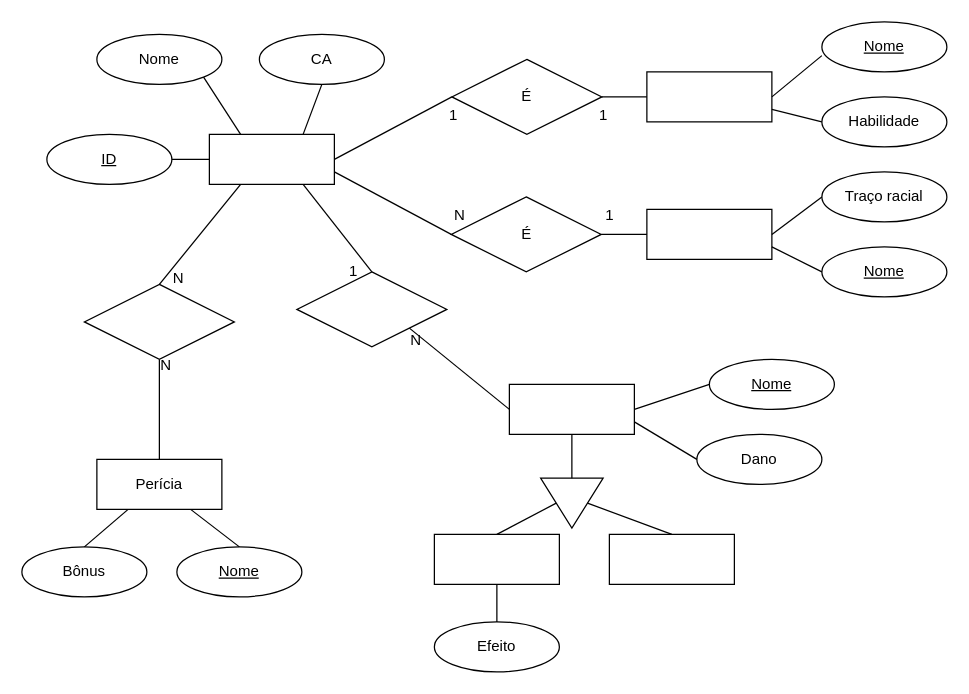
Image size: 969x694. Some labels were removed from this diagram. The shapes that lost their labels are listed below. From the top down, each one's box as (x1, y1, x2, y2) in pixels, then its label:
(646, 71, 772, 122): Classe
(208, 133, 334, 184): Personagem
(646, 208, 772, 259): Raça
(83, 283, 234, 359): Proeficiente
(296, 271, 447, 347): Possui
(508, 383, 634, 434): Arma
(433, 533, 559, 584): Mágica
(608, 533, 734, 584): Não Mágica
